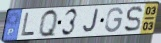3: (60, 7, 82, 37)
G: (104, 7, 125, 34)
J: (82, 8, 100, 35)
L: (20, 12, 36, 38)
Q: (39, 8, 59, 38)
S: (123, 5, 144, 34)
